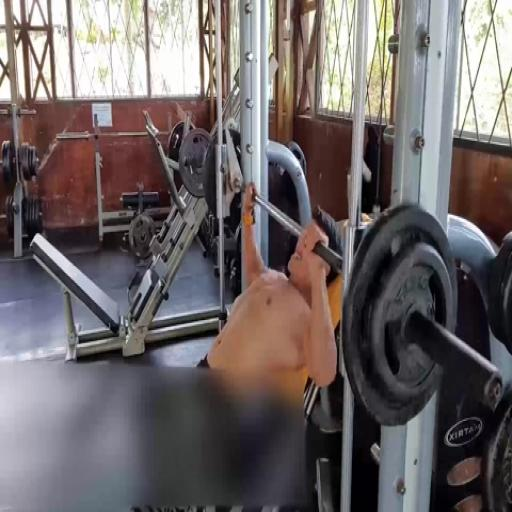exercise: (195, 181, 340, 401)
